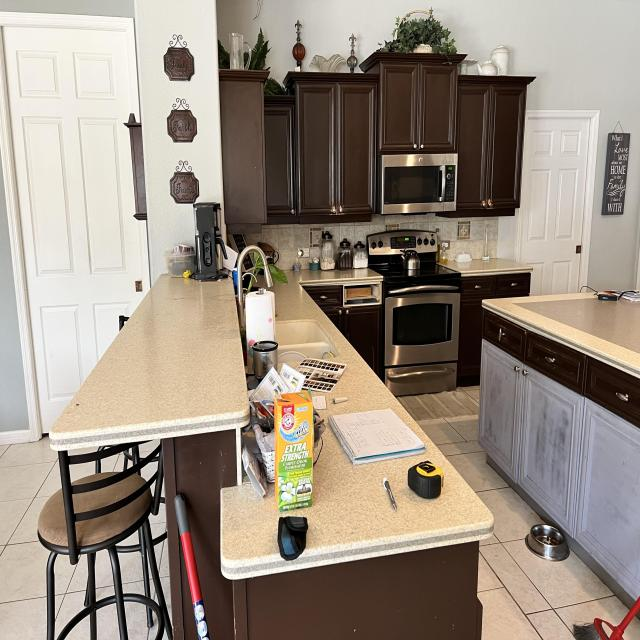Appliance_Microwave: (382, 153, 458, 215)
Appliance_Oven: (367, 230, 463, 397)
Cabinet_Shaker: (457, 273, 640, 603), (221, 59, 534, 229), (305, 286, 380, 376)
Countertop_Granite: (219, 267, 494, 571), (51, 276, 250, 448), (484, 294, 640, 372)
